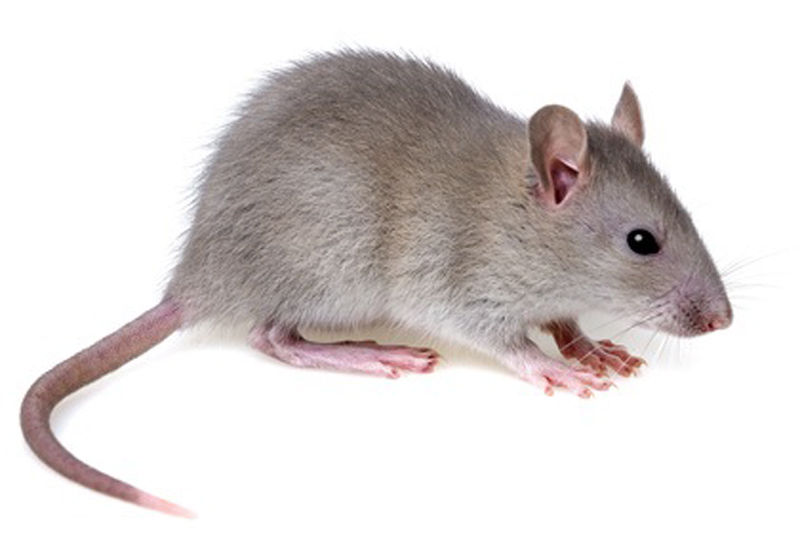rat: (12, 34, 750, 534)
